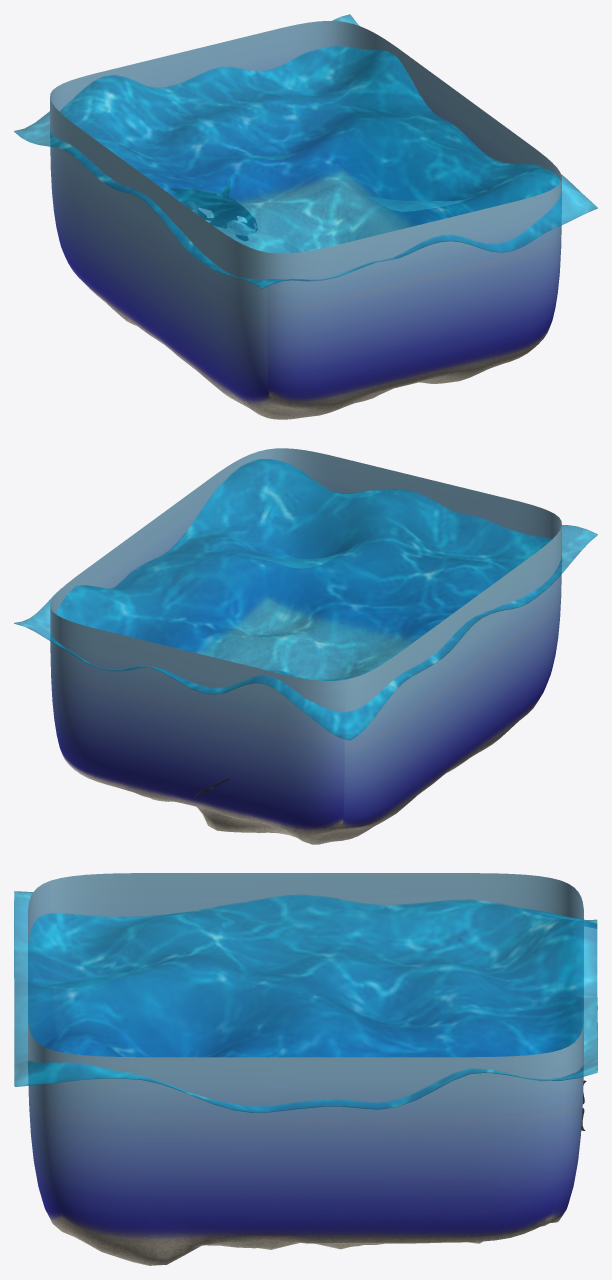
Rendered from ocean.glb.
The picture shows the model from 3 angles, top to bottom: view 1: azimuth 30°, elevation 25°; view 2: azimuth 150°, elevation 25°; view 3: azimuth 270°, elevation 25°; orthographic projection. The views are drawn at different scales.
Parts seen in each view (by area): view 1: ocean, whale; view 2: ocean; view 3: ocean.
Part boxes in pixels (x1,y1,x2,y2): ocean: [14, 14, 597, 419]; whale: [166, 181, 257, 240]; ocean: [14, 448, 597, 844]; ocean: [14, 873, 597, 1265].
Bounding box in the file's own units: 427 × 241 × 545.
Materials: 5 (2 with a texture image).
